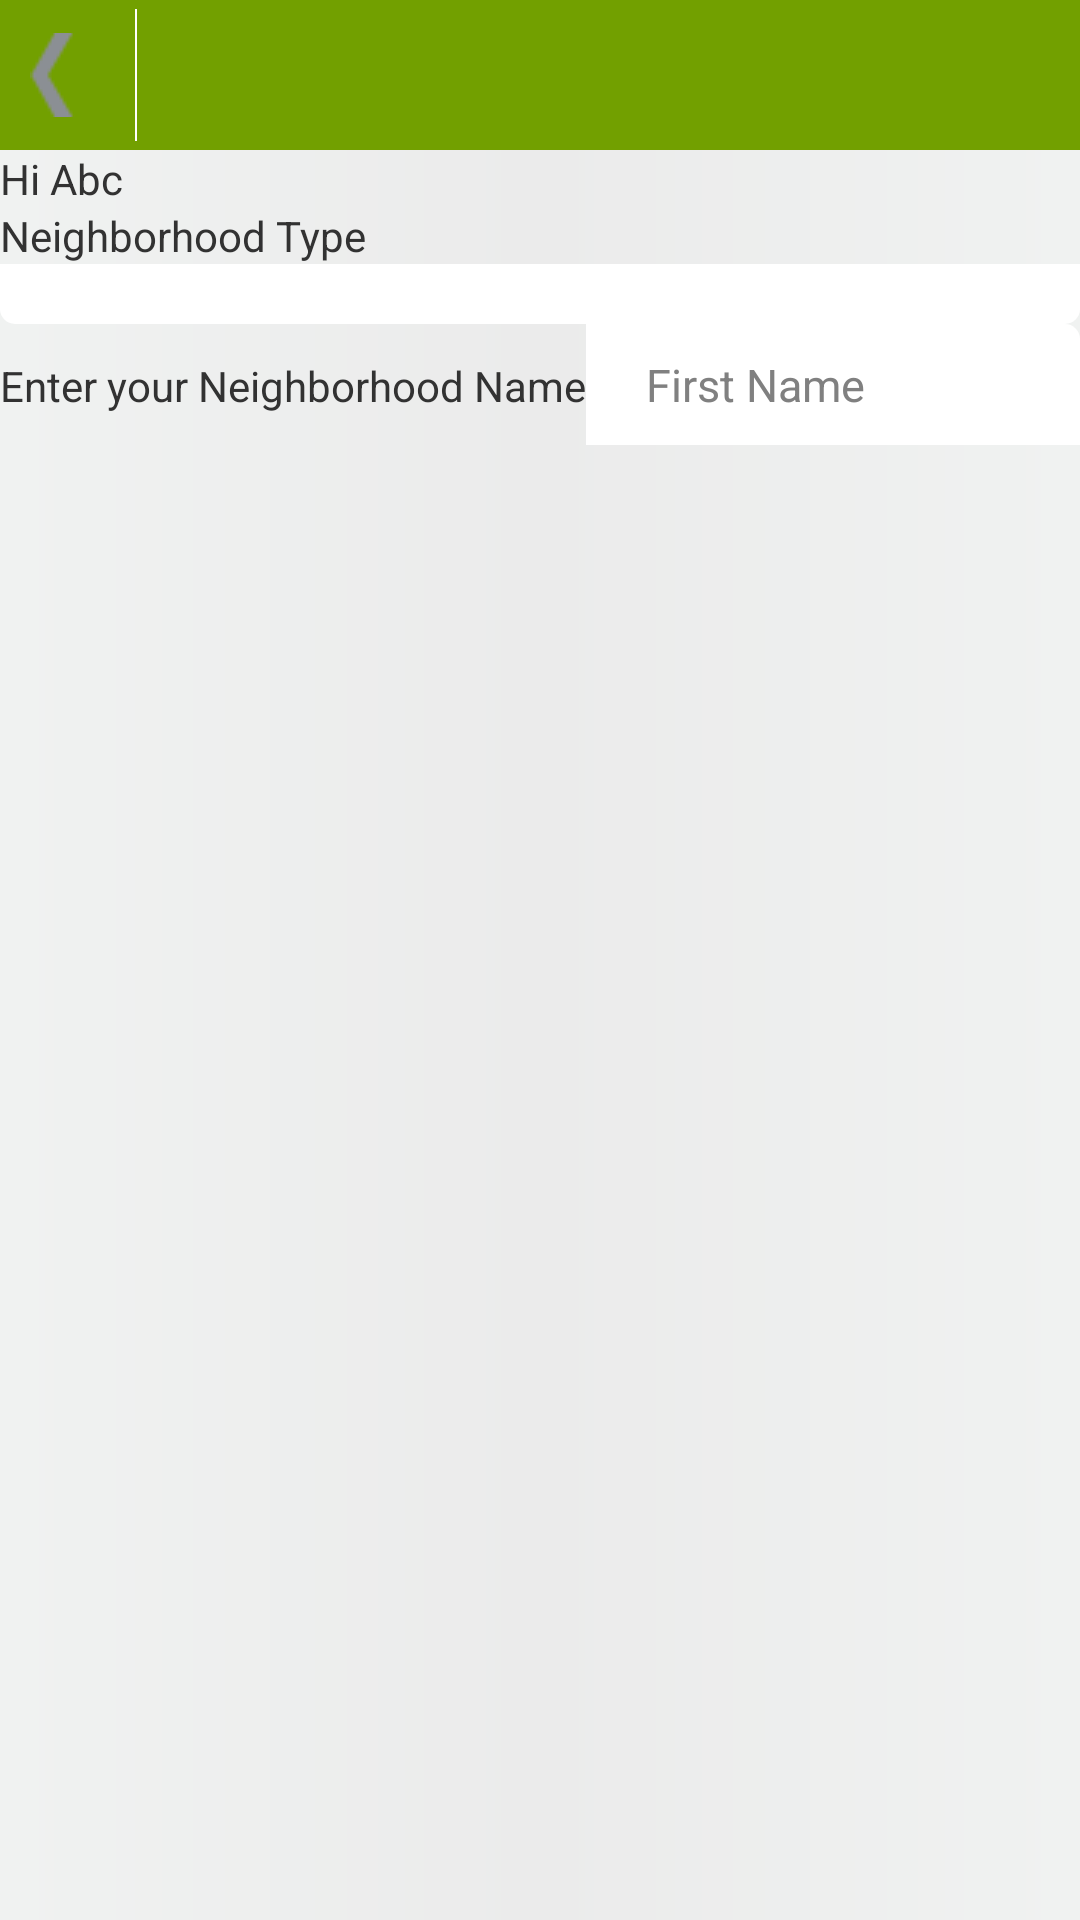

Icons on this 1080×1920 Android screen, each with its box as rect(x1, y1, x2, y2):
Back Button: rect(30, 33, 73, 117)
